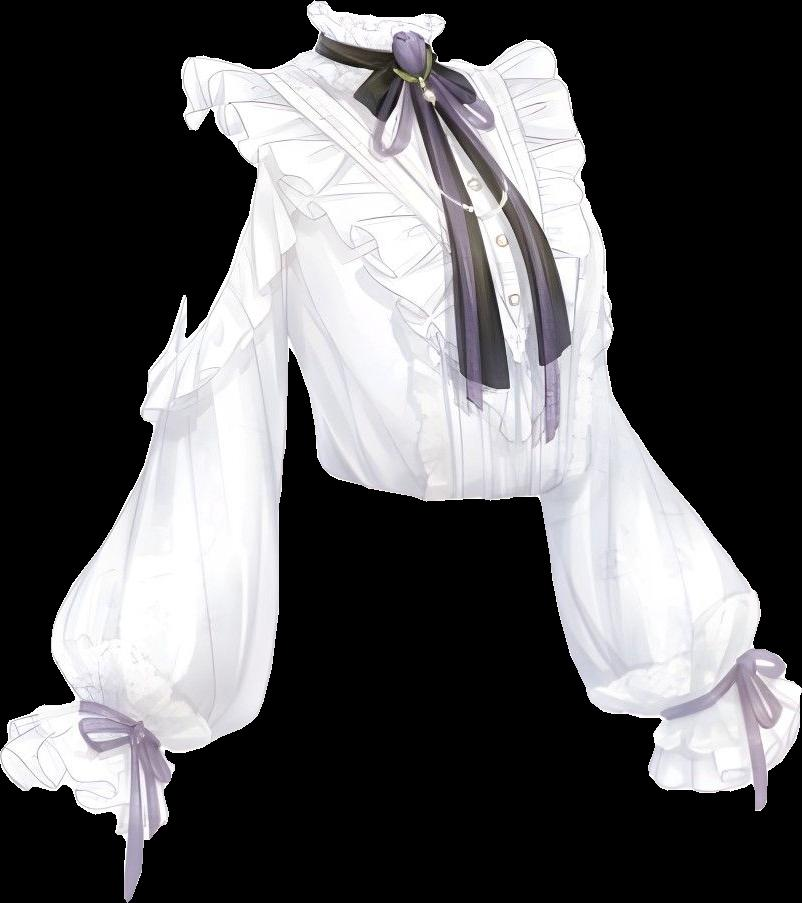Bodice: (181, 1, 632, 500)
Neckline: (268, 63, 536, 332), (305, 2, 444, 34)
Sleeve: (0, 169, 296, 901), (536, 196, 801, 810)
Sleeveline: (653, 642, 758, 724), (72, 692, 184, 763), (255, 169, 303, 246), (578, 193, 596, 281)
Waistline: (182, 33, 592, 442), (314, 455, 569, 504)
